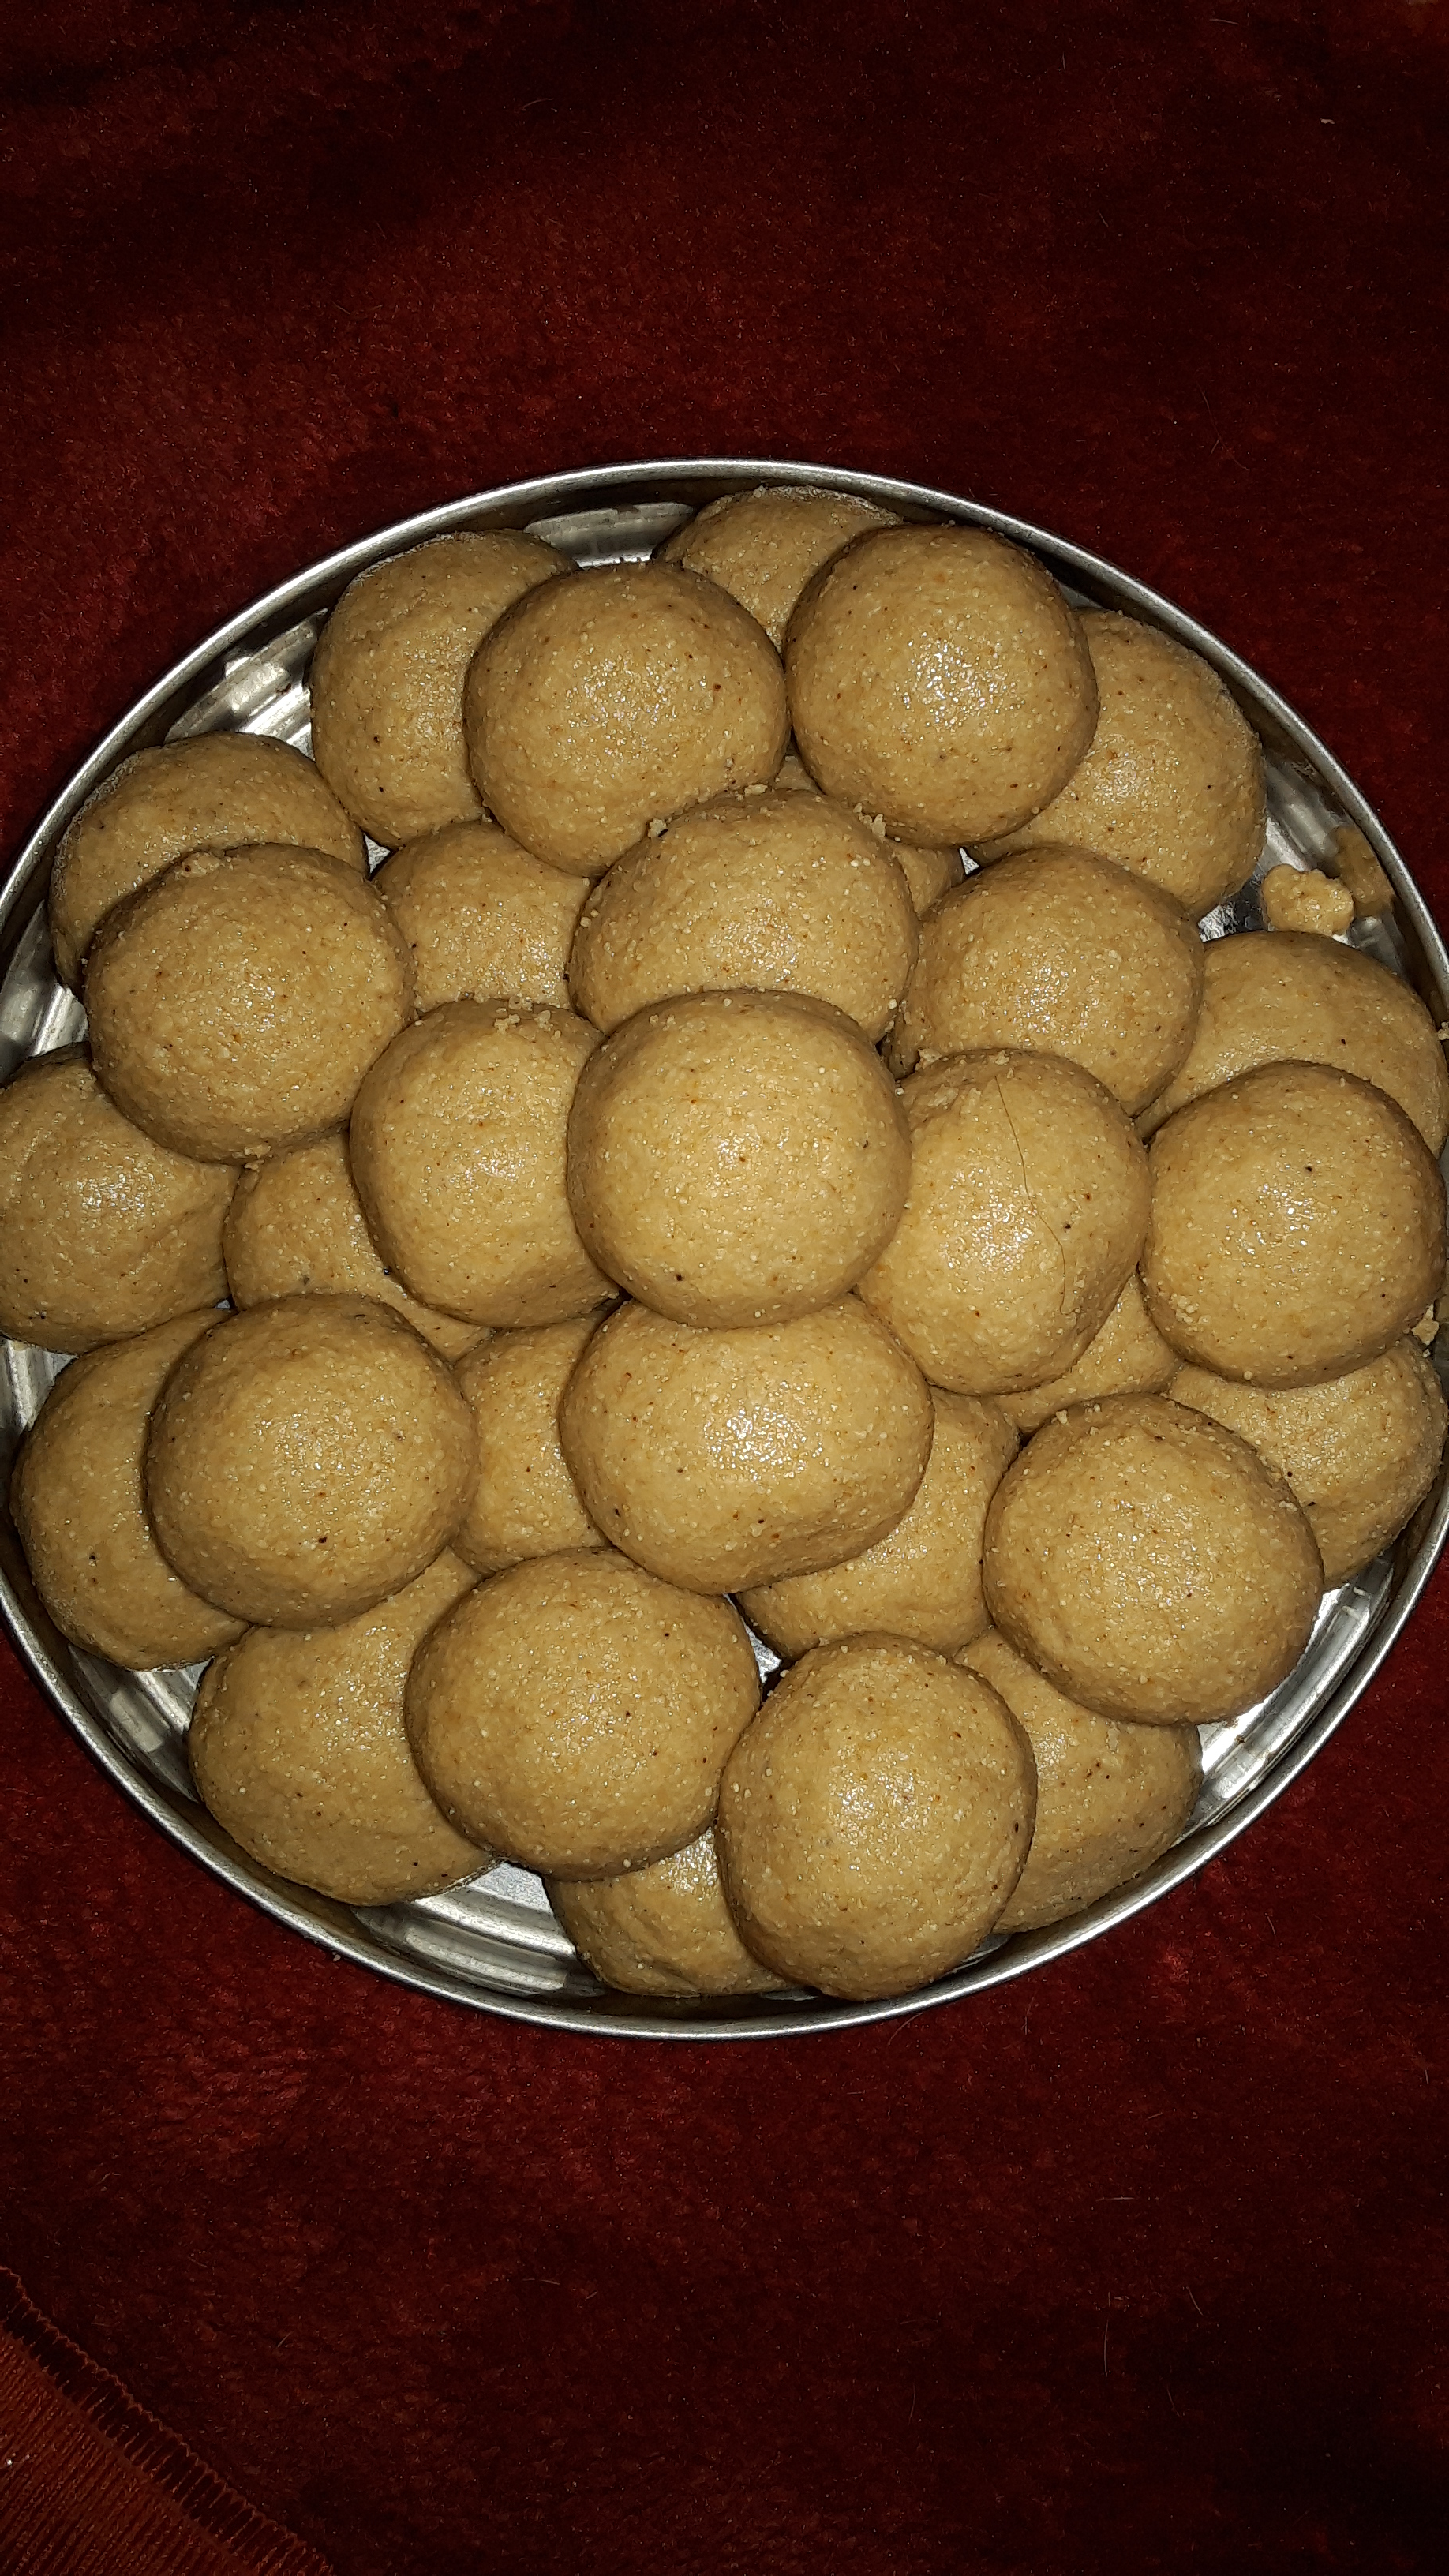food: (2, 465, 1449, 2020)
